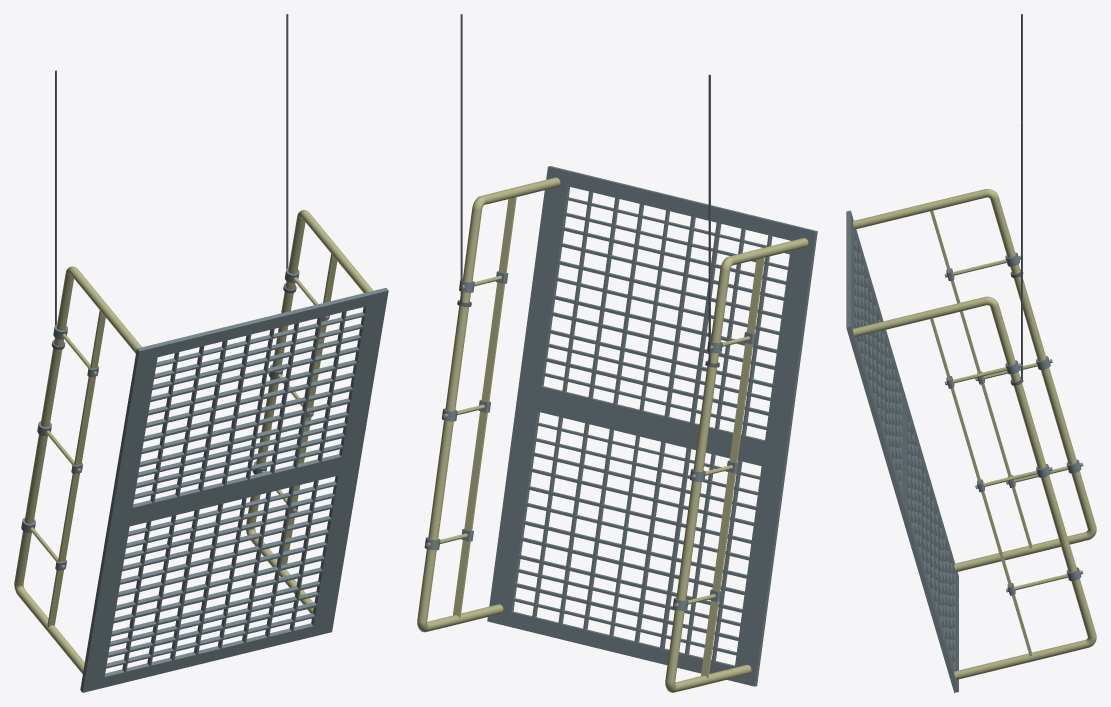
The model's file is Floating_Walkway_Broken2.fbx.
The picture shows the model from 3 angles, left to right: view 1: azimuth 30°, elevation 25°; view 2: azimuth 150°, elevation 25°; view 3: azimuth 270°, elevation 25°; orthographic projection. The views are drawn at different scales.
Parts seen in each view (by area): view 1: pCube43, pCylinder60; view 2: pCube43, pCylinder61, pCylinder60; view 3: pCube43, pCylinder60.
Part boxes in pixels (x1=…): pCube43: x1=14, y1=210, x2=388, y2=692; pCylinder60: x1=286, y1=14, x2=288, y2=268; pCube43: x1=417, y1=166, x2=817, y2=692; pCylinder61: x1=708, y1=74, x2=710, y2=364; pCylinder60: x1=460, y1=14, x2=462, y2=303; pCube43: x1=846, y1=189, x2=1096, y2=692; pCylinder60: x1=1021, y1=121, x2=1022, y2=379.
Bounding box in the file's own units: 1.31 × 2.98 × 1.19.
